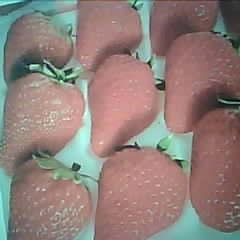straw-ripe: (0, 74, 85, 172), (95, 148, 184, 240), (162, 31, 240, 134), (87, 53, 159, 152), (7, 162, 93, 240)
